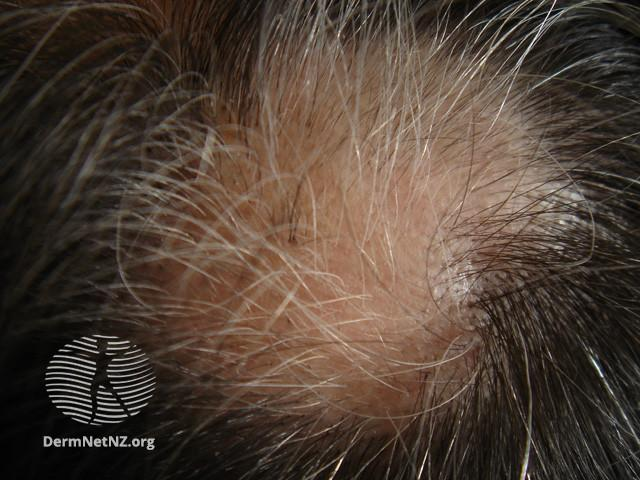Alopecia Areata: (180, 122, 494, 377)
